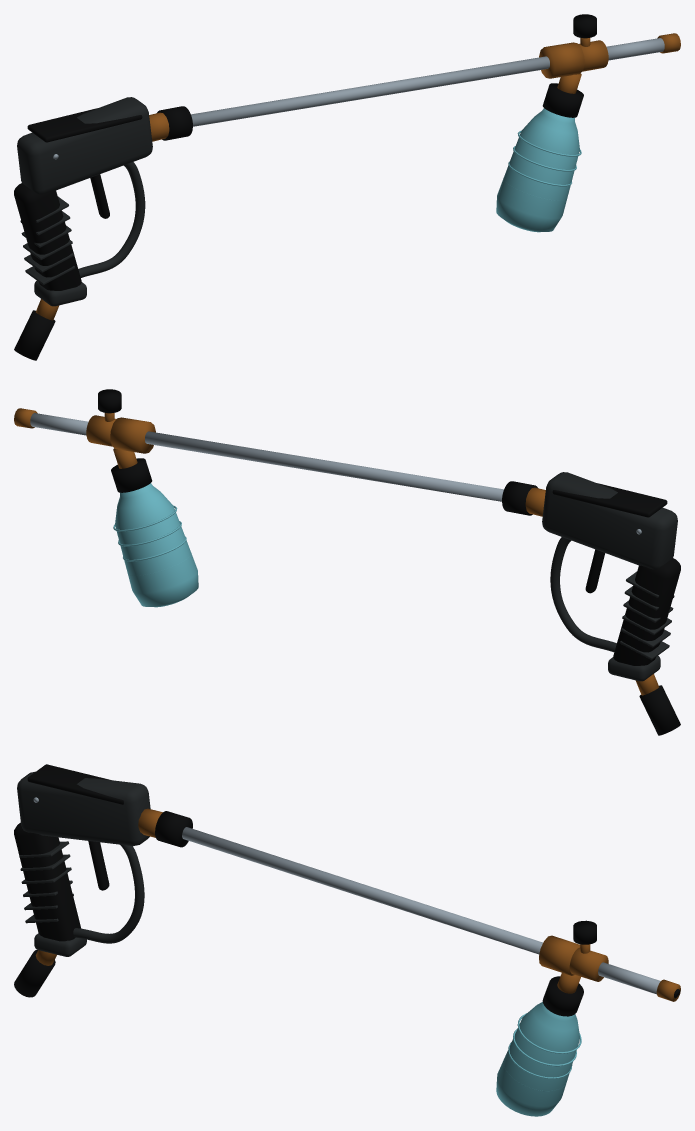
Rendered from crimson_pressure_washer.obj.
3 renders of one model, top to bottom at view 1: azimuth 30°, elevation 25°; view 2: azimuth 150°, elevation 25°; view 3: azimuth 330°, elevation 25°, orthographic.
Visible parts, largest first — view 1: crimson_pressure_washer; view 2: crimson_pressure_washer; view 3: crimson_pressure_washer.
Part boxes in pixels (x1,y1,x2,y2): crimson_pressure_washer: (14,14,680,360); crimson_pressure_washer: (14,389,680,735); crimson_pressure_washer: (14,764,680,1116).
Bounding box in the file's own units: 1.09 × 0.3665 × 0.098.
